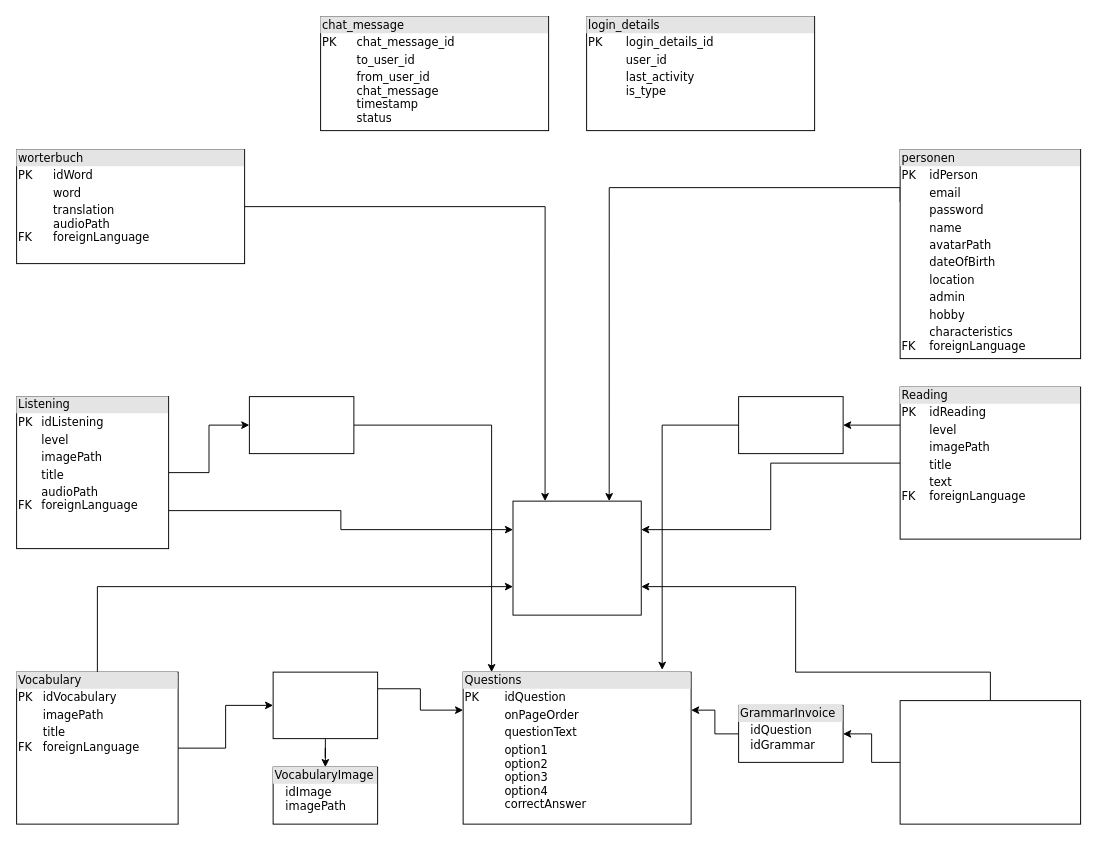
The diagram is 1097 pixels wide and 841 high, and some of its shapes have lost their labels. Each missing label, with the centre of its shape:
"Grammar PK idGrammar level title FK explanation foreignLanguage" belongs at pixel 990 762.
"ListeningInvoice idQuestion idListening" belongs at pixel 301 425.
"ReadingInvoice idQuestion idReading" belongs at pixel 790 425.
"sprache PK idLanguage nativeLanguage foreignLanguage" belongs at pixel 576 557.
"VocabularyInvoice idQuestion idVocabulary idImage" belongs at pixel 325 705.
